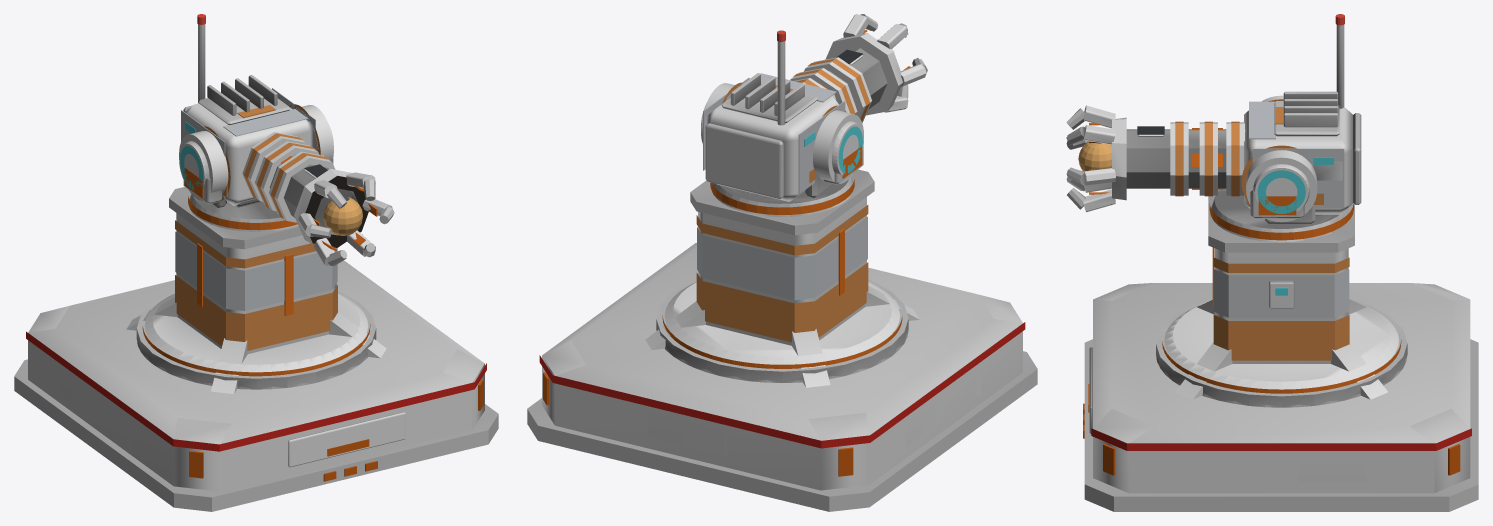
Rendered from fire_2.glb.
3 views of the same model, side by side, from view 1: azimuth 30°, elevation 25°; view 2: azimuth 150°, elevation 25°; view 3: azimuth 270°, elevation 25° (orthographic). The views are drawn at different scales.
Visible parts, largest first — view 1: Rumpf, Werfer, Gelenk, Drehteller, Kern, Ladung; view 2: Rumpf, Werfer, Gelenk, Drehteller; view 3: Rumpf, Werfer, Gelenk, Drehteller, Ladung, Kern.
Boxes of the visible parts, box(x1,y1,x2,y2) form: Rumpf: box(14, 187, 498, 511); Werfer: box(181, 14, 394, 265); Gelenk: box(179, 104, 333, 200); Drehteller: box(188, 194, 298, 231); Kern: box(323, 197, 362, 235); Ladung: box(184, 156, 377, 250); Rumpf: box(527, 169, 1037, 511); Werfer: box(703, 14, 927, 201); Gelenk: box(701, 82, 863, 183); Drehteller: box(710, 173, 854, 216); Rumpf: box(1083, 190, 1478, 511); Werfer: box(1066, 14, 1361, 218); Gelenk: box(1241, 95, 1317, 222); Drehteller: box(1209, 188, 1353, 242); Ladung: box(1089, 123, 1296, 215); Kern: box(1078, 141, 1111, 171).
Bounding box in the file's own units: 0.94 × 1.05 × 0.9841.
